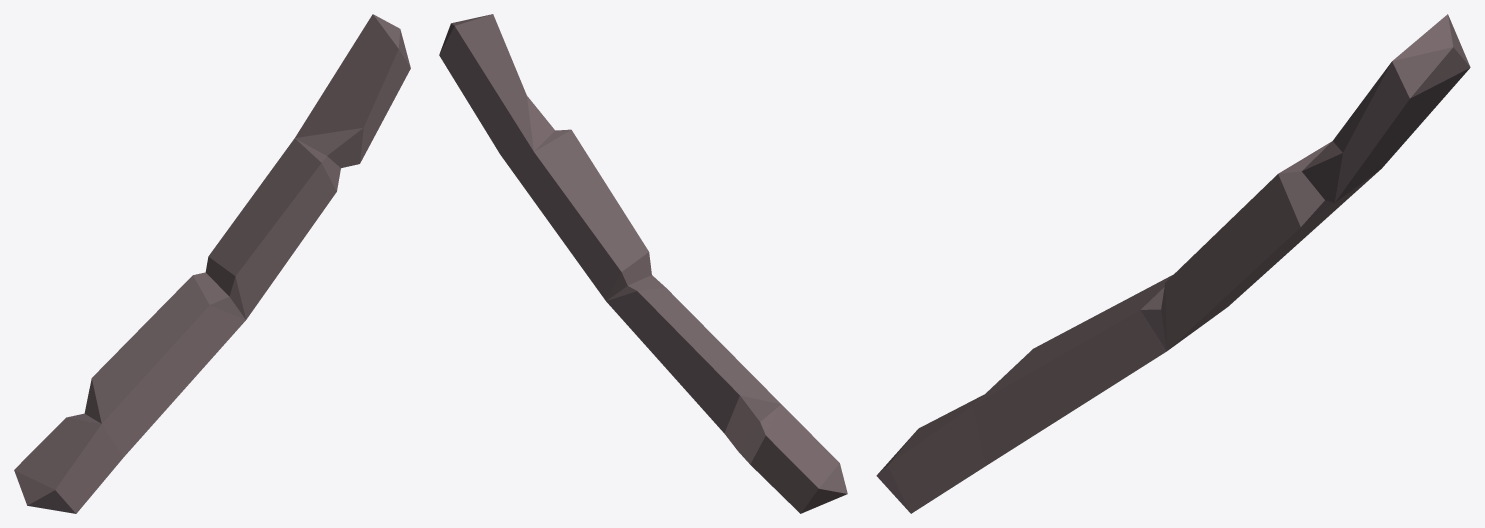
Rendered from SM_L_R_Home_Roof_Side_Pillar.fbx.
3 renders of one model, left to right at view 1: azimuth 30°, elevation 25°; view 2: azimuth 150°, elevation 25°; view 3: azimuth 330°, elevation 25°, orthographic. The views are drawn at different scales.
Visible parts, largest first — view 1: SM_L_R_Home_Roof_side_pillar; view 2: SM_L_R_Home_Roof_side_pillar; view 3: SM_L_R_Home_Roof_side_pillar.
Part boxes in pixels (left/top/right/bottom): SM_L_R_Home_Roof_side_pillar: left=14, top=14, right=410, bottom=513; SM_L_R_Home_Roof_side_pillar: left=439, top=14, right=847, bottom=513; SM_L_R_Home_Roof_side_pillar: left=876, top=14, right=1470, bottom=513.
Size of the model in its own units: 1.79 by 1.78 by 0.3023.
